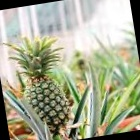Pineapple: (2, 35, 76, 132)
